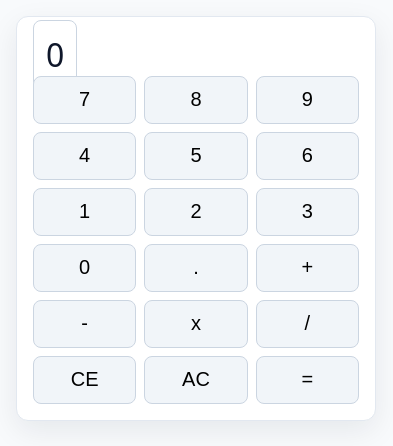
Test case: App number entry behavior › enters decimal-first values with a leading zero
Click the button ".".
click(196, 268)  # box [144,244,248,292]
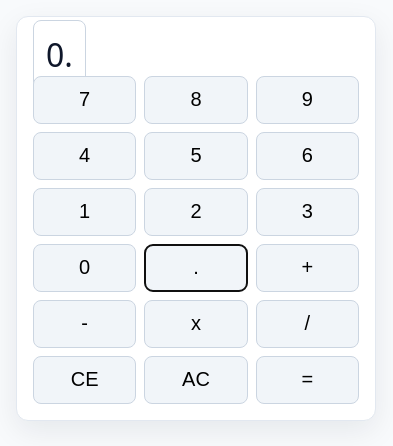
Click the button "5".
click(196, 156)  # box [144,132,248,180]
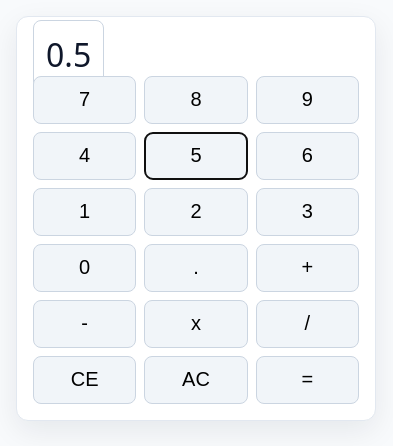
Result: the text named "Display" reads "0.5" at [46,32,91,76]
